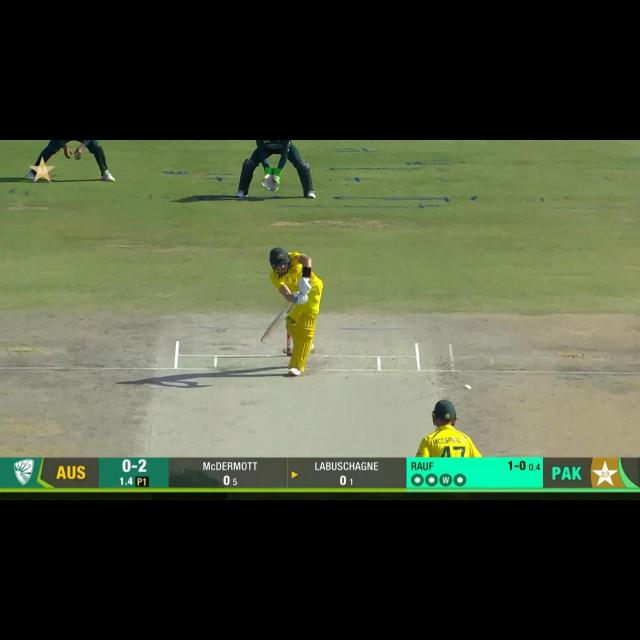bat: (261, 300, 295, 345)
toe: (260, 335, 276, 346)
